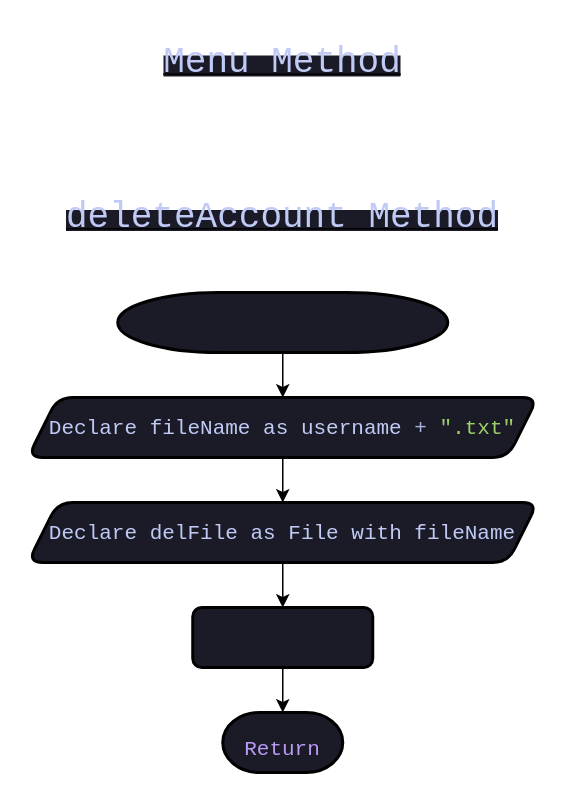
Some shapes in this 564 by 800 pixel diagram are drawn without their labels. The centre of each missing label's shape, as x and y in pixels:
"Delete delFile" belongs at point 282,636.
"deleteAccount ( username )" belongs at point 282,321.
